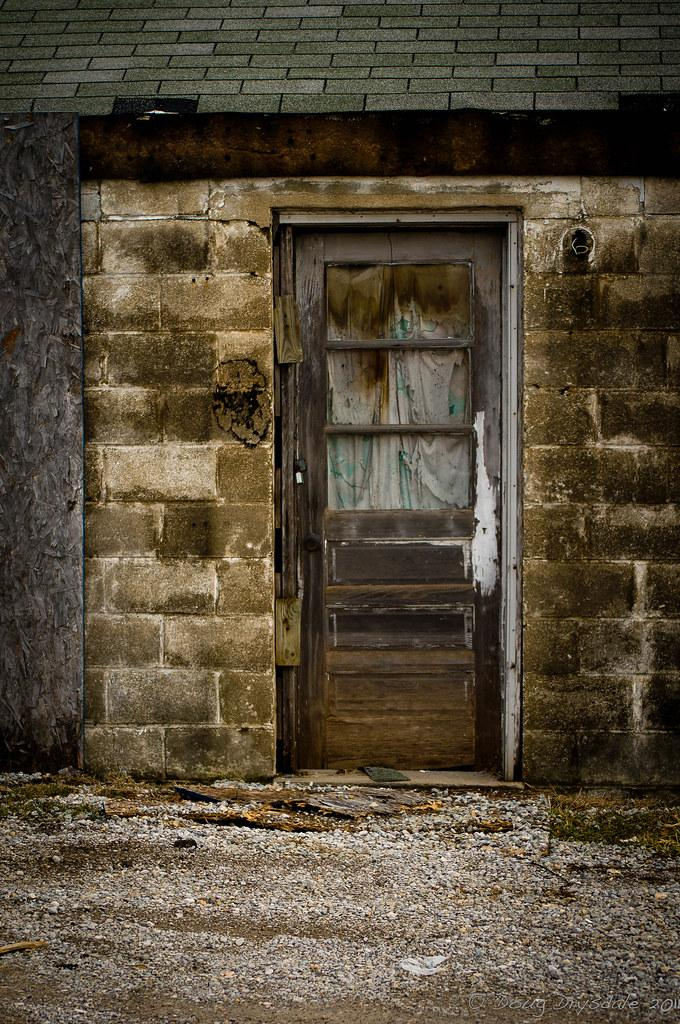door: (275, 215, 513, 776)
